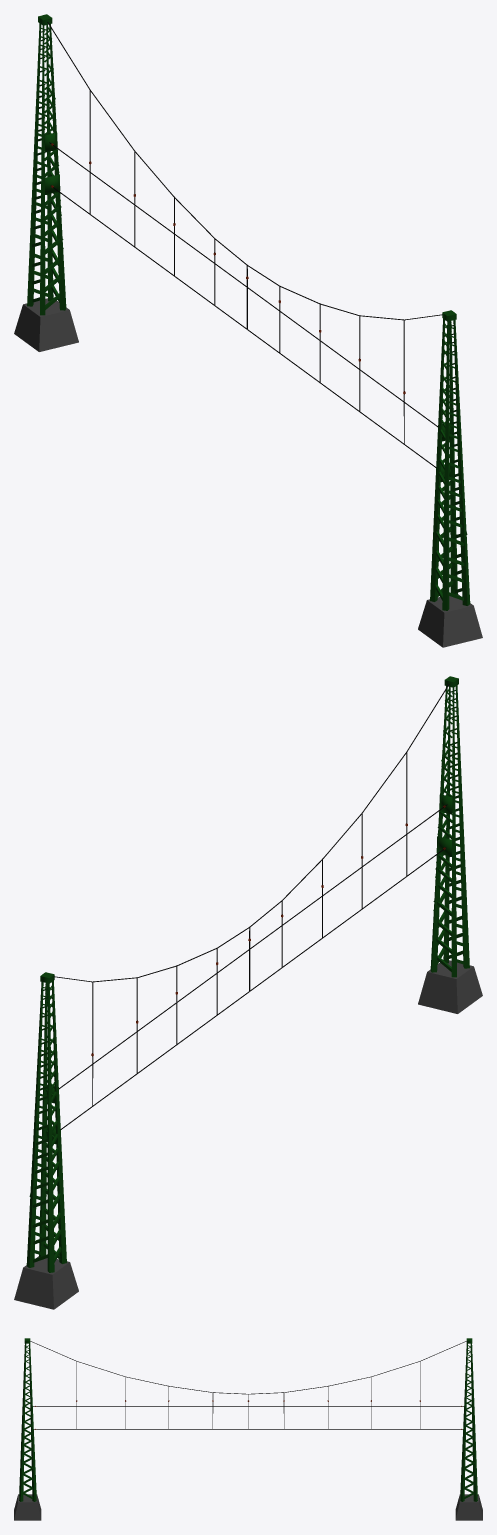
The model's file is Poles_1_26m.obj.
3 renders of one model, top to bottom at view 1: azimuth 30°, elevation 25°; view 2: azimuth 150°, elevation 25°; view 3: azimuth 270°, elevation 25°, orthographic. The views are drawn at different scales.
Parts seen in each view (by area): view 1: PoleBig26m_Cube_Cube.003; view 2: PoleBig26m_Cube_Cube.003; view 3: PoleBig26m_Cube_Cube.003.
Boxes of the visible parts, box(x1,y1,x2,y2) form: PoleBig26m_Cube_Cube.003: box(14, 14, 482, 647); PoleBig26m_Cube_Cube.003: box(14, 676, 482, 1309); PoleBig26m_Cube_Cube.003: box(14, 1338, 482, 1520).
Size of the model in its own units: 1.58 by 12.1 by 29.3.
